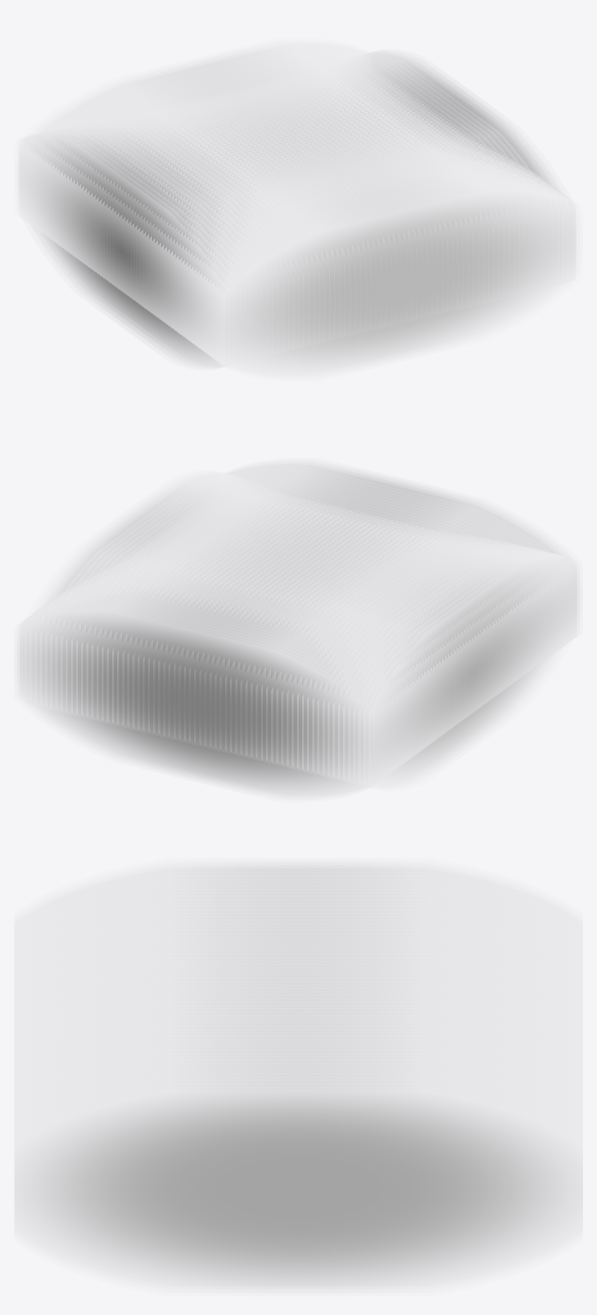
File: aurora-transformed.glb
3 renders of one model, top to bottom at view 1: azimuth 30°, elevation 25°; view 2: azimuth 150°, elevation 25°; view 3: azimuth 270°, elevation 25°, orthographic. The views are drawn at different scales.
Visible parts, largest first — view 1: fog1, fog; view 2: fog1, fog; view 3: fog.
Part boxes in pixels (x1,y1,x2,y2): fog1: (20, 44, 576, 375); fog: (37, 55, 552, 363); fog1: (20, 464, 576, 795); fog: (43, 476, 556, 784); fog: (14, 864, 582, 1290).
Bounding box in the file's own units: 37.98 × 15.2 × 38.01.
Materials: 1 (1 with a texture image).
